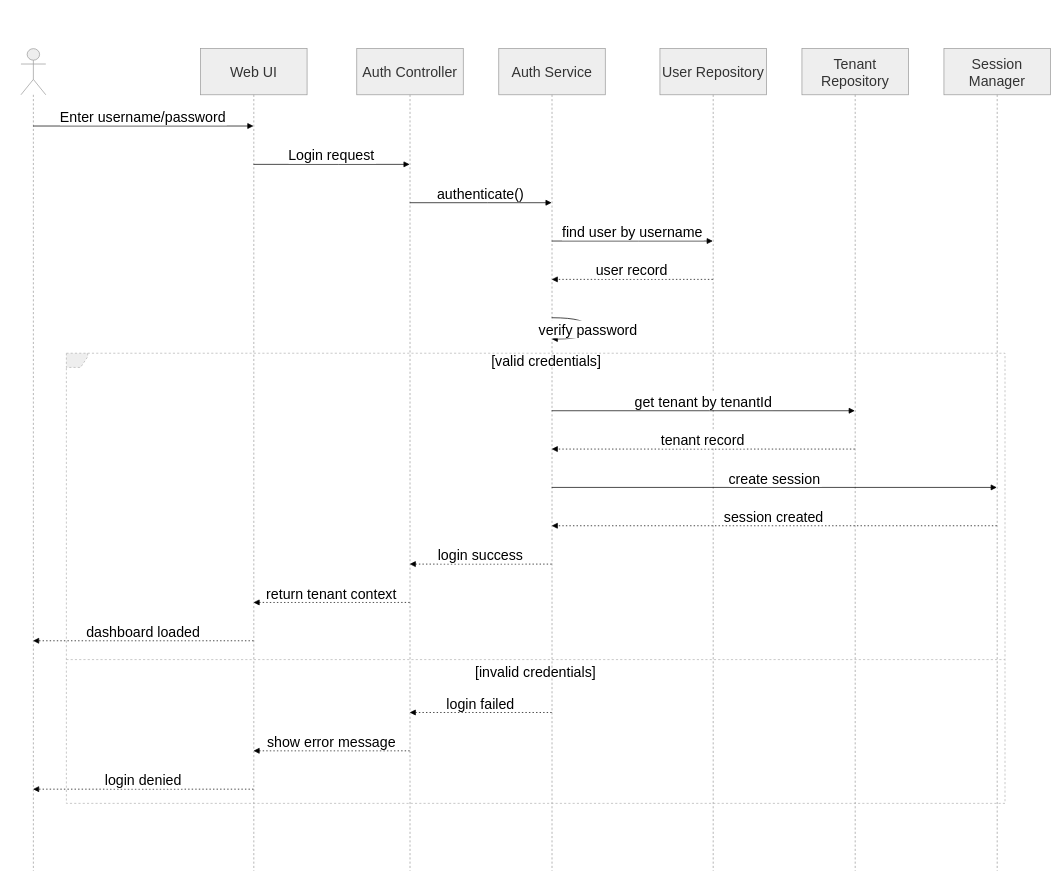
Image size: 1063x883. Some labels were removed from this diagram. The box of each missing label's shape, as (x1, y1, x2, y2) in pixels:
alt: (66, 353, 1005, 803)
Tenant User: (20, 48, 46, 871)
